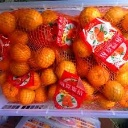orange: (31, 46, 56, 69)
